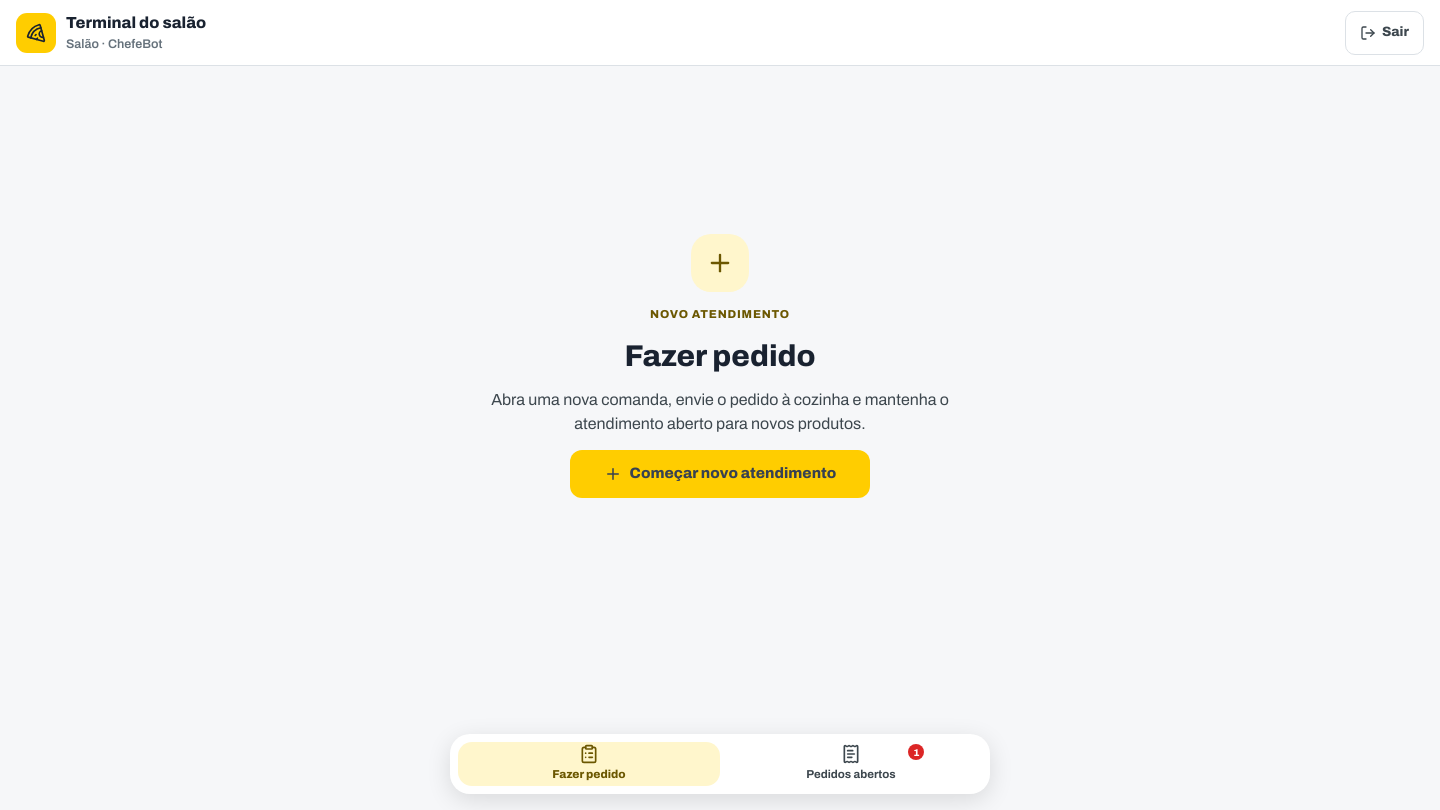
Test case: /salao — pedidos abertos e continuidade › atualiza estado quando a janela volta ao foco
Click the button "Pedidos abertos 1" at coordinates (851, 764), box [720,742,982,786]
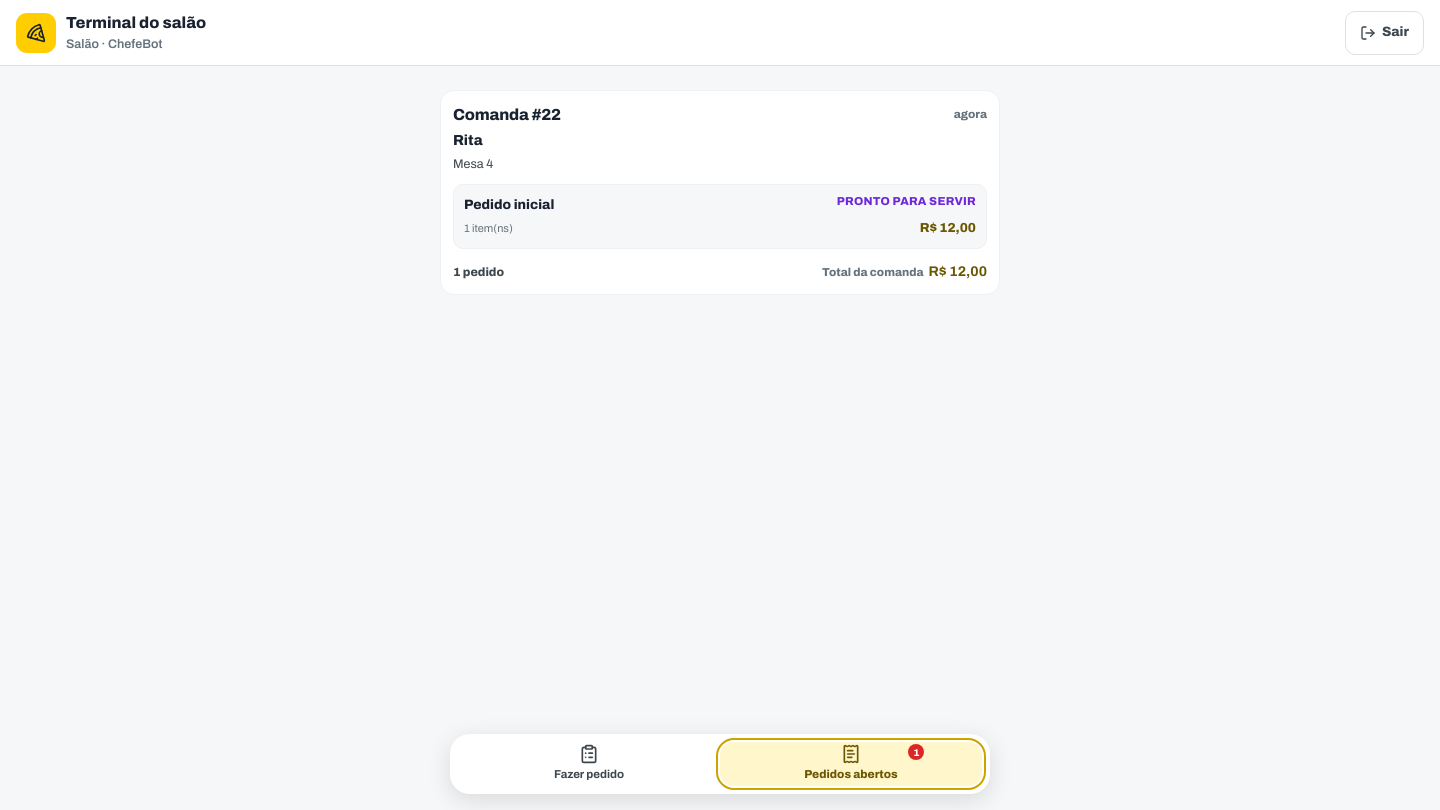
Expected: the text "Pronto para servir" is shown, [837,194,976,208]
